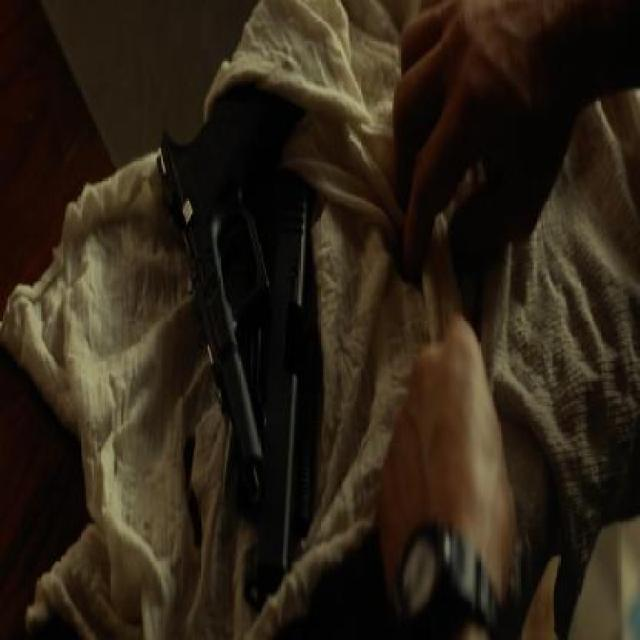guns: (142, 92, 327, 563)
